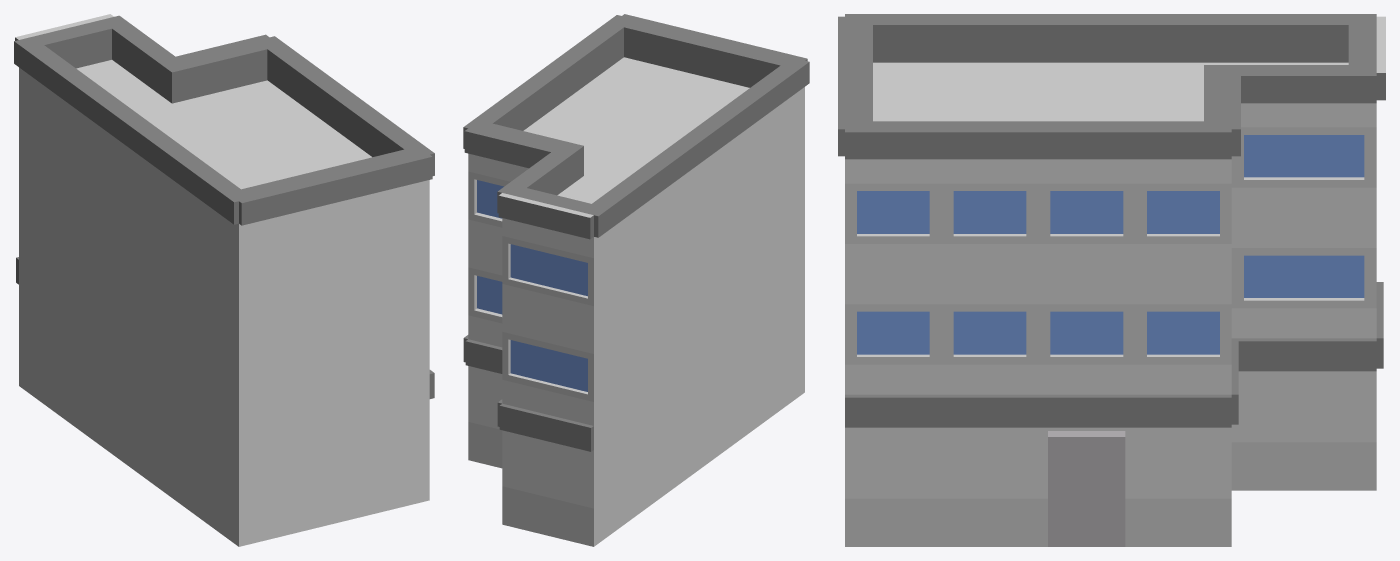
File: domitory1.fbx
3 views of the same model, side by side, from view 1: azimuth 30°, elevation 25°; view 2: azimuth 150°, elevation 25°; view 3: azimuth 270°, elevation 25° (orthographic). The views are drawn at different scales.
Visible parts, largest first — view 1: Cube; view 2: Cube; view 3: Cube.
Boxes of the visible parts, x1,y1,x2,y2 form: Cube: (14, 14, 434, 546); Cube: (463, 14, 809, 546); Cube: (838, 14, 1385, 546).
Size of the model in its own units: 216 by 346 by 412.
